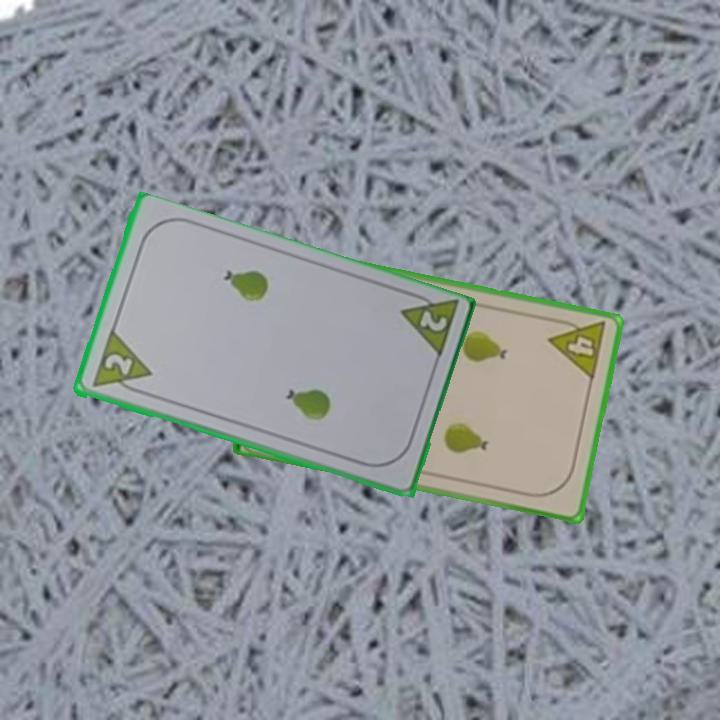2p: (395, 286, 461, 364), (88, 328, 154, 399)
4p: (545, 314, 610, 383)
